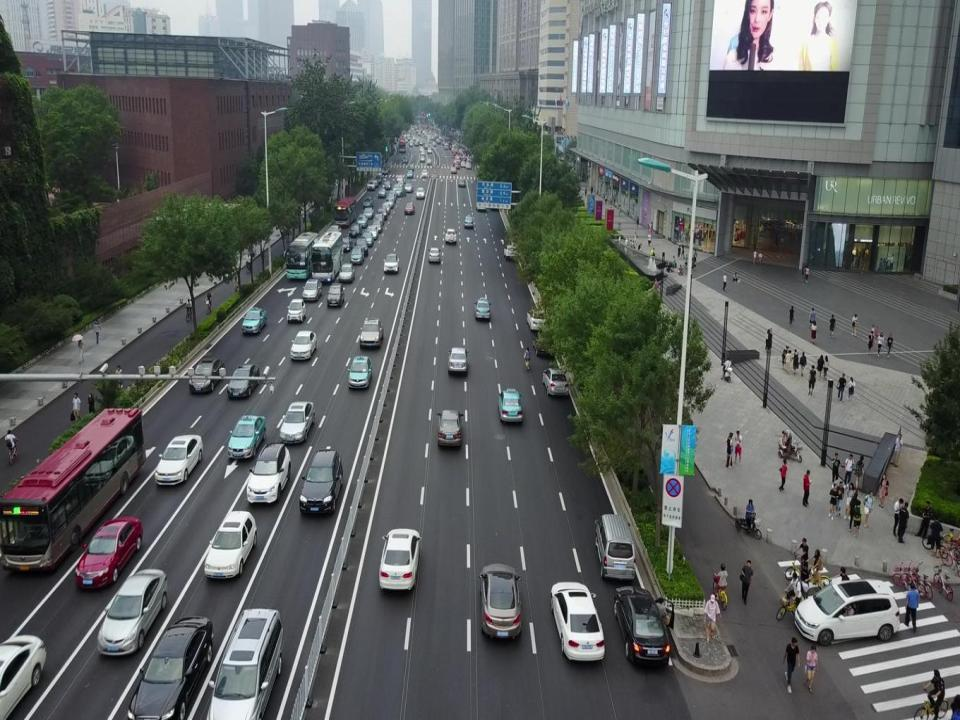bus: (2, 410, 146, 575), (311, 231, 343, 282), (284, 232, 316, 278), (334, 197, 356, 227), (399, 136, 406, 154)
car: (206, 605, 282, 720), (129, 616, 213, 720), (794, 579, 899, 643), (98, 570, 168, 656), (614, 584, 678, 668), (74, 517, 142, 586), (552, 579, 606, 660), (1, 634, 46, 720), (479, 563, 523, 643), (205, 510, 256, 579), (298, 451, 344, 514), (379, 528, 421, 592), (247, 444, 291, 503), (154, 435, 205, 483), (229, 414, 267, 458), (279, 400, 316, 445), (187, 358, 225, 394), (436, 406, 462, 450), (228, 366, 260, 399), (498, 386, 523, 424), (540, 365, 568, 397), (290, 330, 317, 360), (348, 355, 372, 387), (359, 318, 383, 347), (243, 307, 267, 333), (449, 344, 470, 373), (533, 329, 554, 357), (287, 298, 306, 323), (527, 309, 548, 330), (302, 281, 322, 302), (475, 297, 492, 321), (327, 283, 344, 307), (384, 254, 400, 273), (339, 264, 355, 282), (355, 236, 370, 254), (427, 246, 441, 264), (445, 226, 457, 245), (504, 246, 517, 262), (488, 196, 500, 211), (362, 231, 374, 246), (351, 250, 363, 264), (340, 237, 352, 251), (475, 198, 486, 212), (367, 226, 378, 240), (350, 224, 361, 237), (363, 207, 374, 219), (378, 206, 388, 219), (372, 219, 382, 232), (374, 213, 385, 224), (416, 187, 425, 200), (464, 214, 472, 228), (404, 203, 414, 214), (396, 188, 407, 198), (363, 196, 373, 207), (358, 214, 366, 227), (382, 202, 390, 214), (404, 183, 413, 193), (366, 181, 376, 190), (420, 168, 428, 178), (378, 188, 386, 198), (392, 183, 399, 194), (406, 170, 414, 179), (458, 179, 465, 189), (375, 174, 382, 184), (382, 181, 390, 189), (396, 183, 405, 190), (386, 199, 393, 208), (381, 167, 388, 175), (388, 194, 396, 201), (419, 150, 426, 157), (389, 190, 396, 197), (402, 155, 408, 163), (383, 164, 389, 172), (466, 160, 471, 169), (455, 162, 461, 169), (426, 158, 432, 165), (408, 164, 414, 171), (372, 180, 378, 187), (396, 175, 402, 182), (420, 155, 425, 162), (418, 140, 424, 145), (414, 140, 418, 147), (427, 148, 432, 153), (451, 166, 455, 172), (461, 161, 465, 167), (432, 141, 436, 147), (424, 143, 428, 149), (409, 142, 413, 147), (419, 146, 423, 151)
van: (595, 513, 636, 578), (444, 143, 448, 150)
